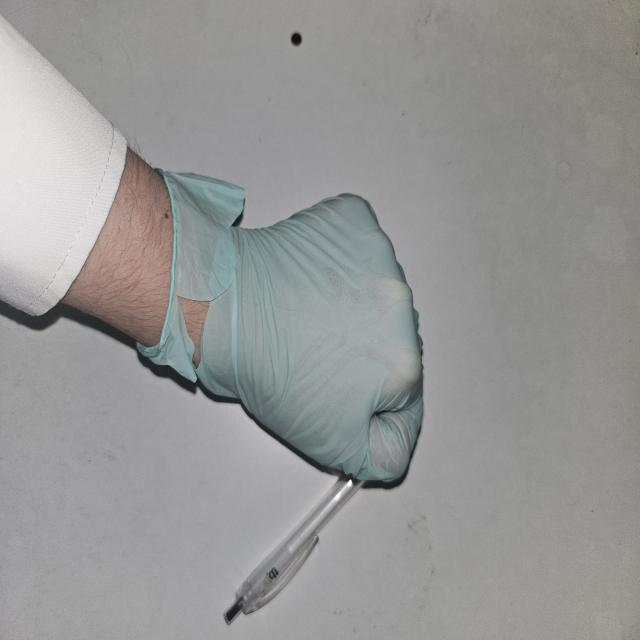gloves_damaged: (140, 166, 424, 484)
